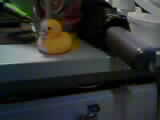duck: (36, 15, 70, 59)
